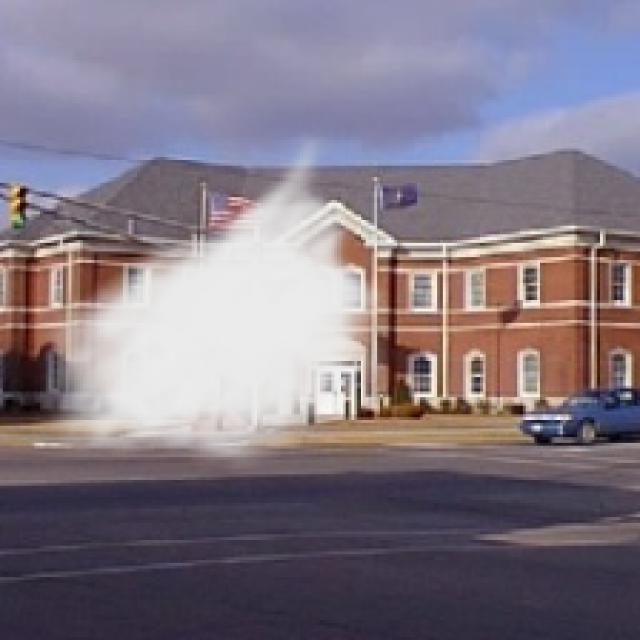smoke: (29, 128, 394, 472)
